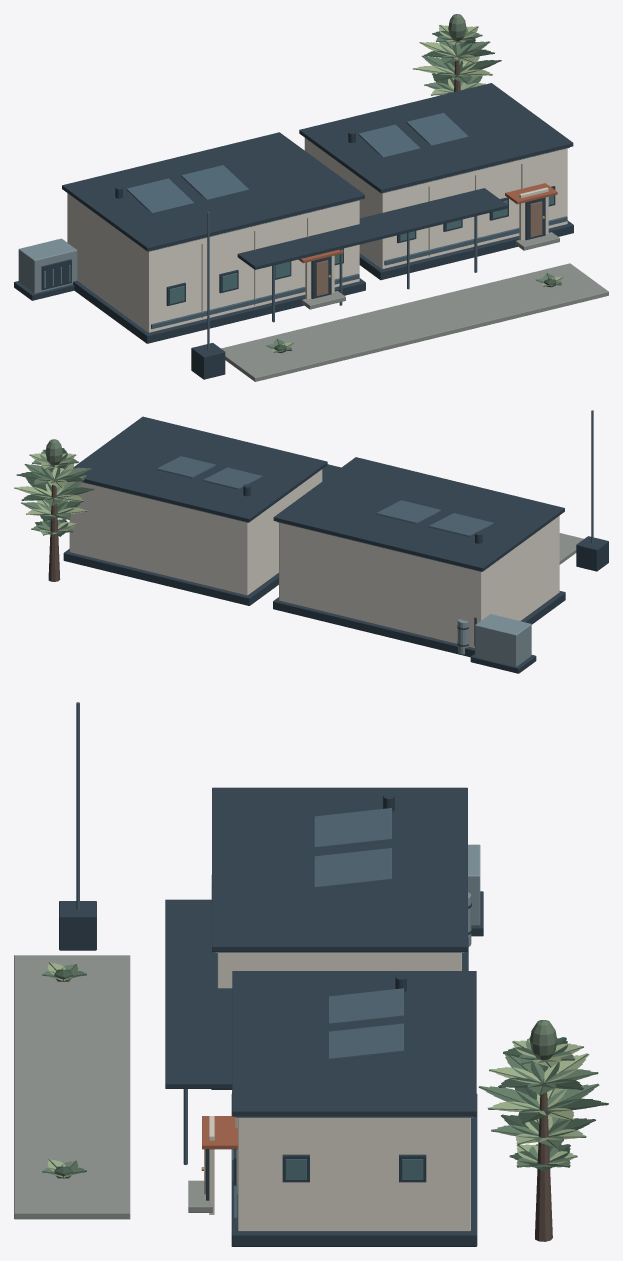
File: neighborhood.glb
3 views of the same model, one above another, from view 1: azimuth 30°, elevation 25°; view 2: azimuth 150°, elevation 25°; view 3: azimuth 270°, elevation 25° (orthographic). The views are drawn at different scales.
Parts seen in each view (by area): view 1: building.neighborhood.t1; view 2: building.neighborhood.t1; view 3: building.neighborhood.t1.
Part boxes in pixels (bbox=[...]): building.neighborhood.t1: bbox=[14, 14, 608, 381]; building.neighborhood.t1: bbox=[14, 410, 608, 673]; building.neighborhood.t1: bbox=[14, 702, 608, 1246].
Size of the model in its own units: 1.64 by 0.5005 by 1.12.
